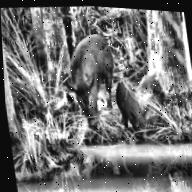boar: (52, 13, 118, 135), (108, 68, 159, 158)
